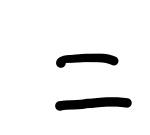eqv: (48, 48, 135, 111)
